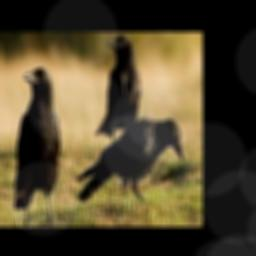Crow: (77, 117, 184, 203), (15, 67, 61, 226), (95, 35, 141, 145)
